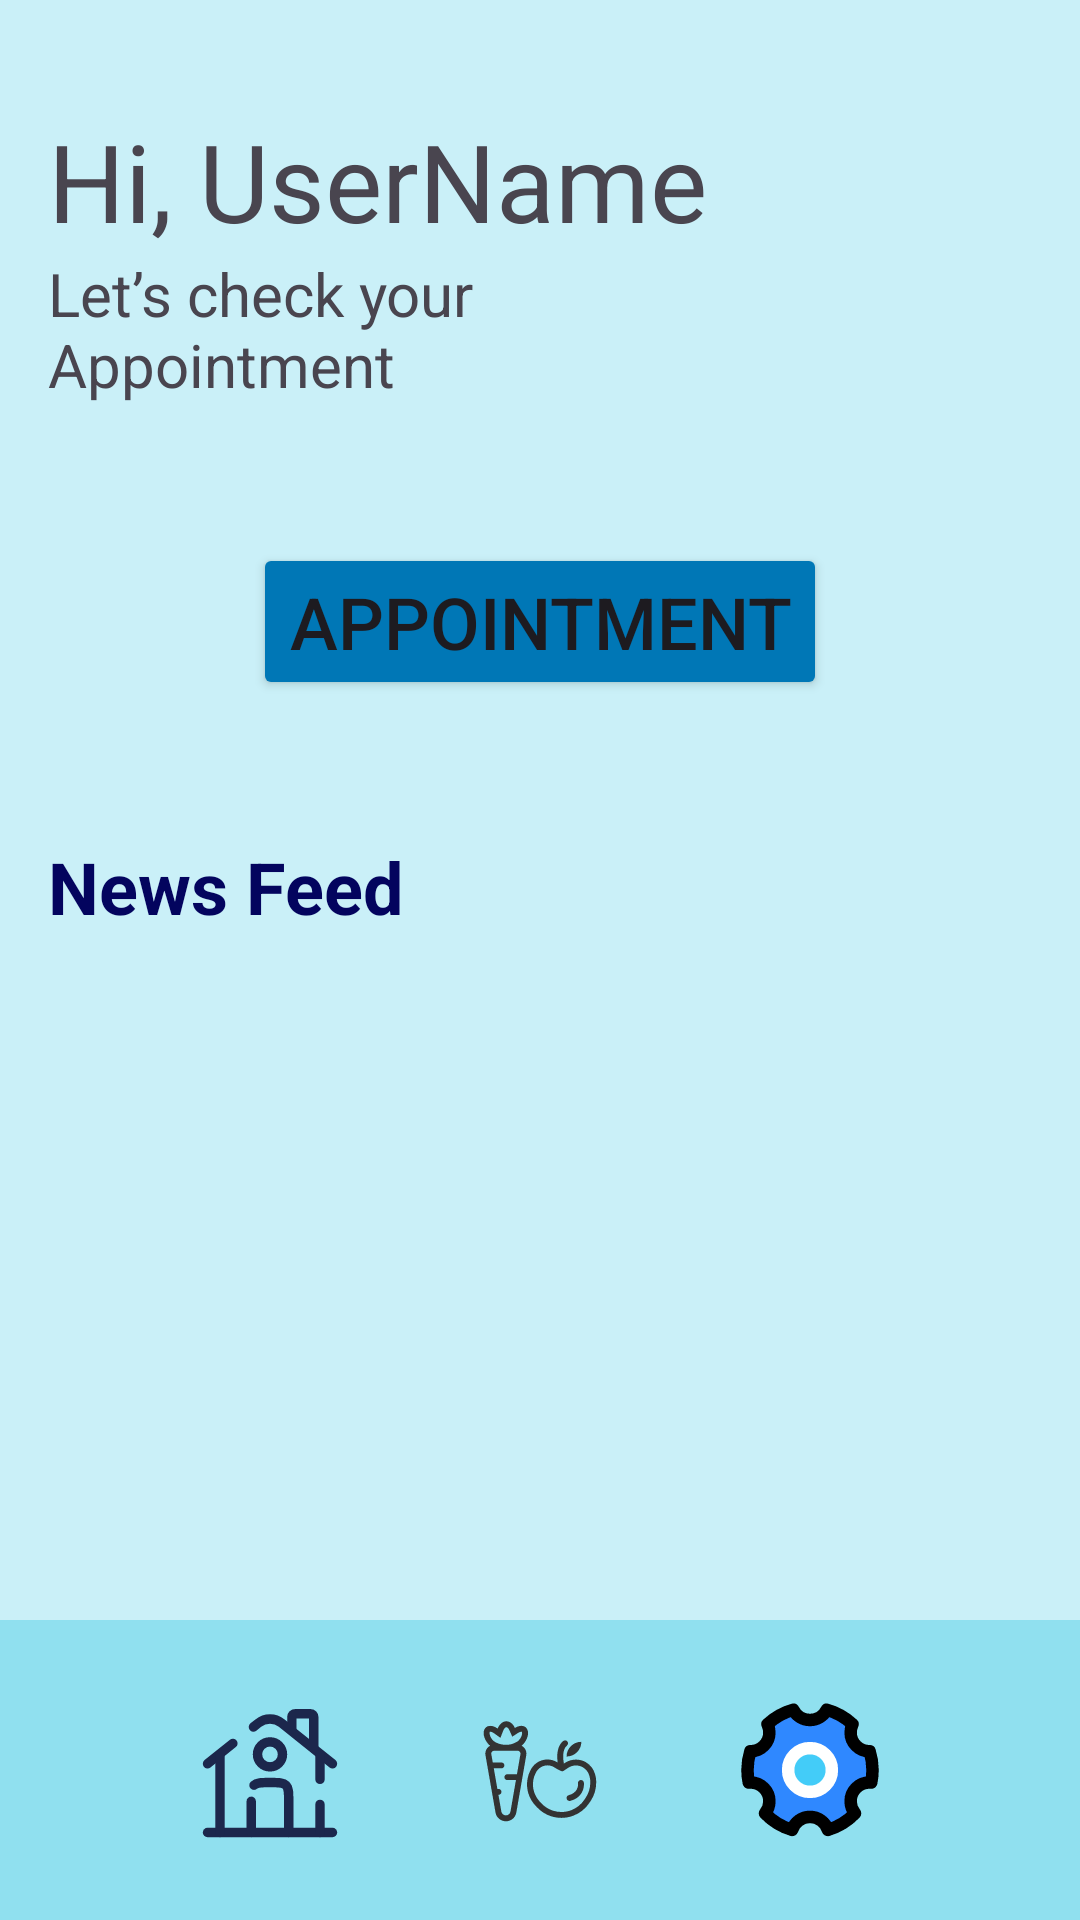

Point at icon controls on the screen. Image size 1080 x 1920, points as point (x, y).
home: point (270, 1773)
nutrition: point (540, 1771)
setting: point (810, 1770)
